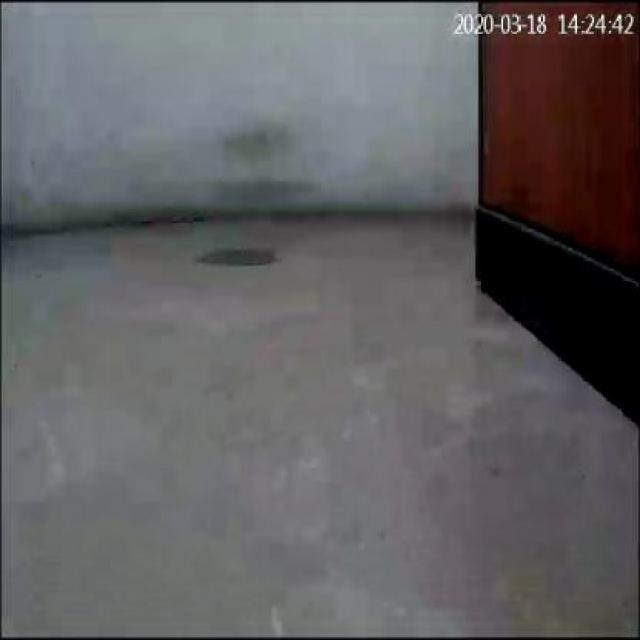spill: (190, 246, 275, 263)
